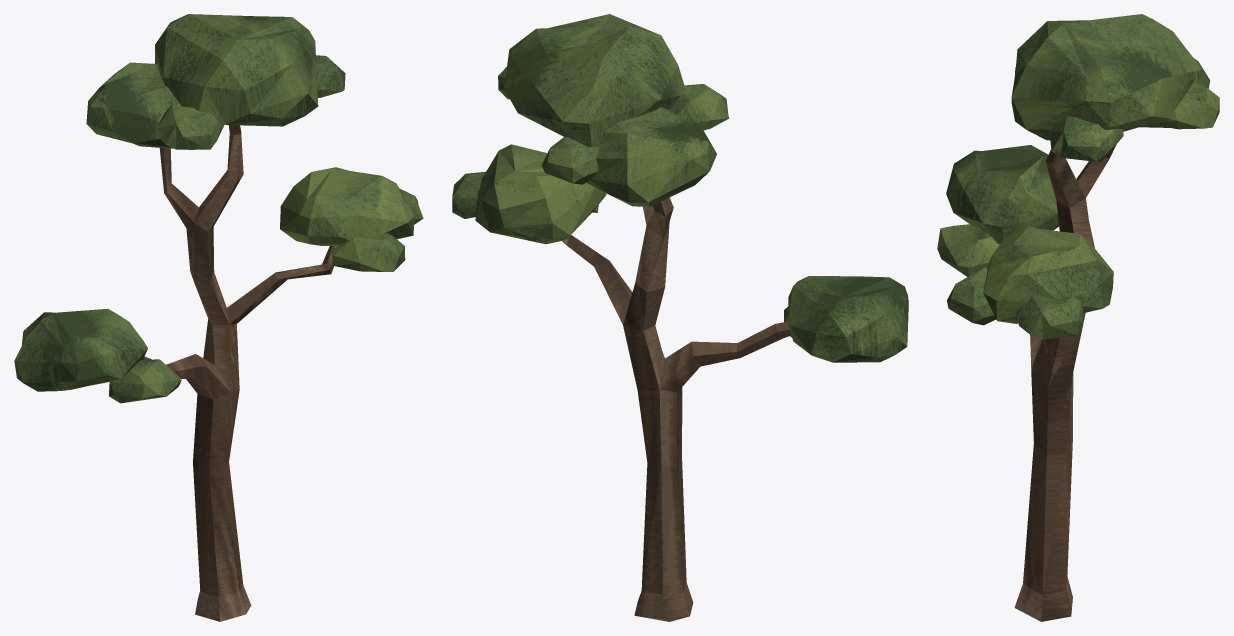
The model's file is Tree06.fbx.
3 views of the same model, side by side, from view 1: azimuth 30°, elevation 25°; view 2: azimuth 150°, elevation 25°; view 3: azimuth 270°, elevation 25° (orthographic). The views are drawn at different scales.
Visible parts, largest first — view 1: Tree06; view 2: Tree06; view 3: Tree06.
Part boxes in pixels (x1,y1,x2,y2): Tree06: [14, 14, 423, 621]; Tree06: [452, 14, 908, 621]; Tree06: [937, 14, 1219, 621].
Size of the model in its own units: 426 by 561 by 236.
